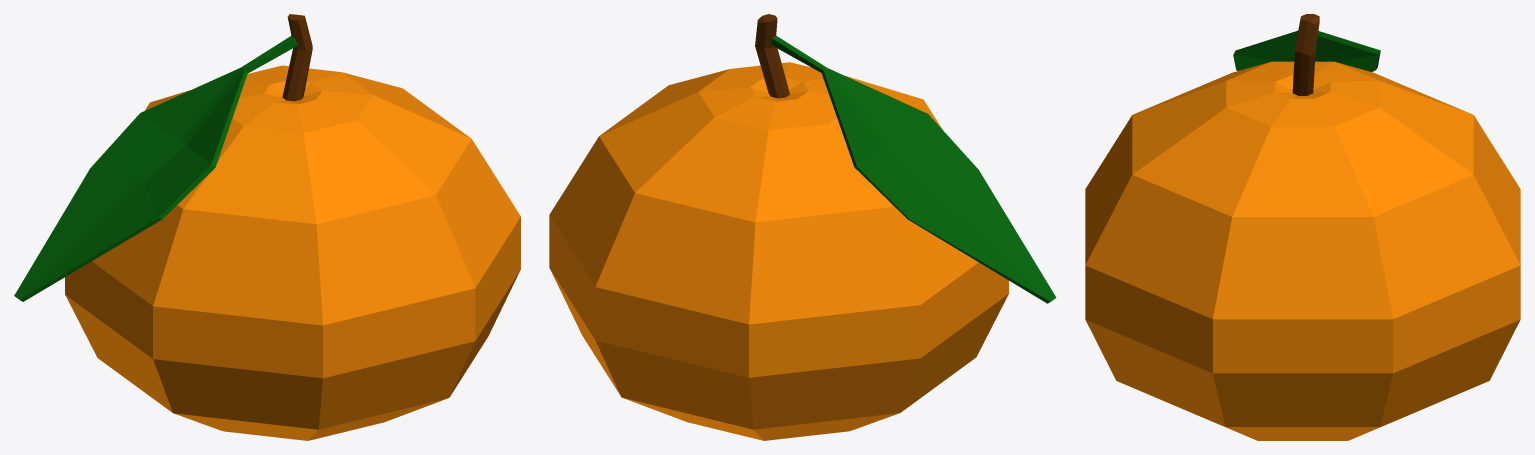
The model's file is clementine01.gltf.
3 renders of one model, left to right at view 1: azimuth 30°, elevation 25°; view 2: azimuth 150°, elevation 25°; view 3: azimuth 270°, elevation 25°, orthographic. The views are drawn at different scales.
Parts seen in each view (by area): view 1: Cylinder; view 2: Cylinder; view 3: Cylinder.
Part boxes in pixels (x1=…): Cylinder: x1=14, y1=14, x2=520, y2=440; Cylinder: x1=549, y1=14, x2=1056, y2=440; Cylinder: x1=1085, y1=14, x2=1520, y2=440.
Size of the model in its own units: 0.0715 by 0.0561 by 0.0574.
1 material, 1 textured.
